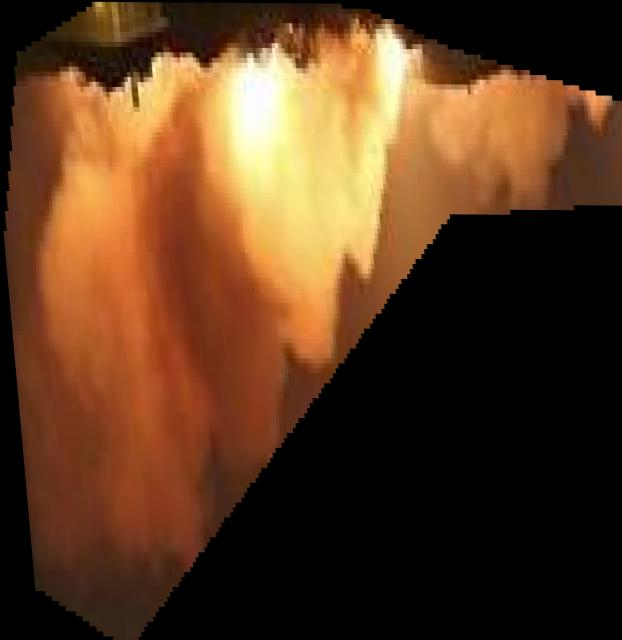fire: (1, 1, 622, 640)
